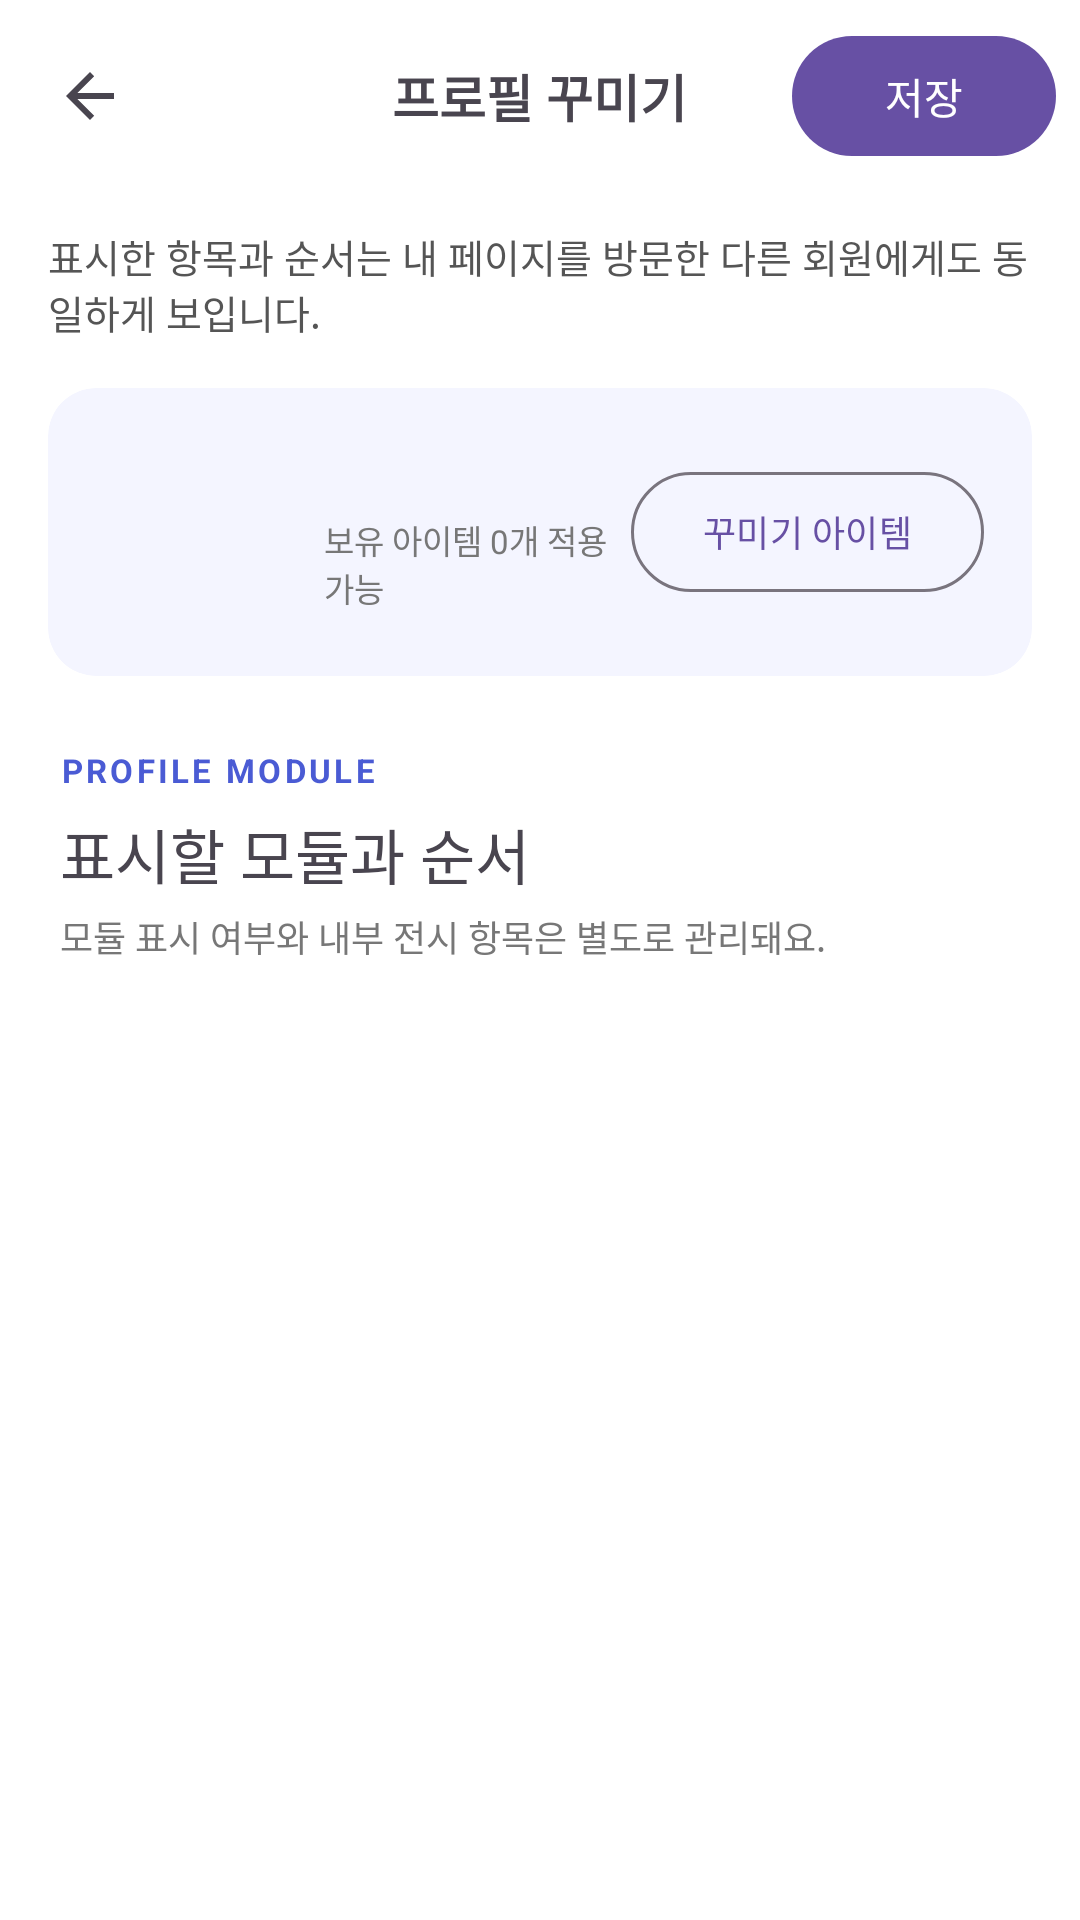

Point at icon controls on the screen. Image size 1080x1920, points as point (x, y).
뒤로: point (90, 96)
